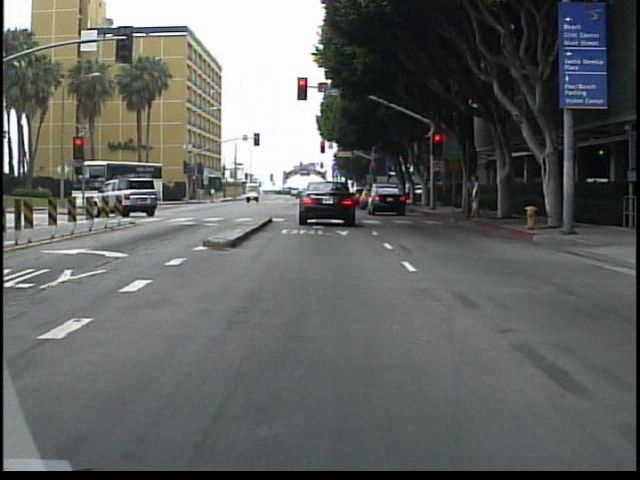person: (466, 169, 486, 220)
